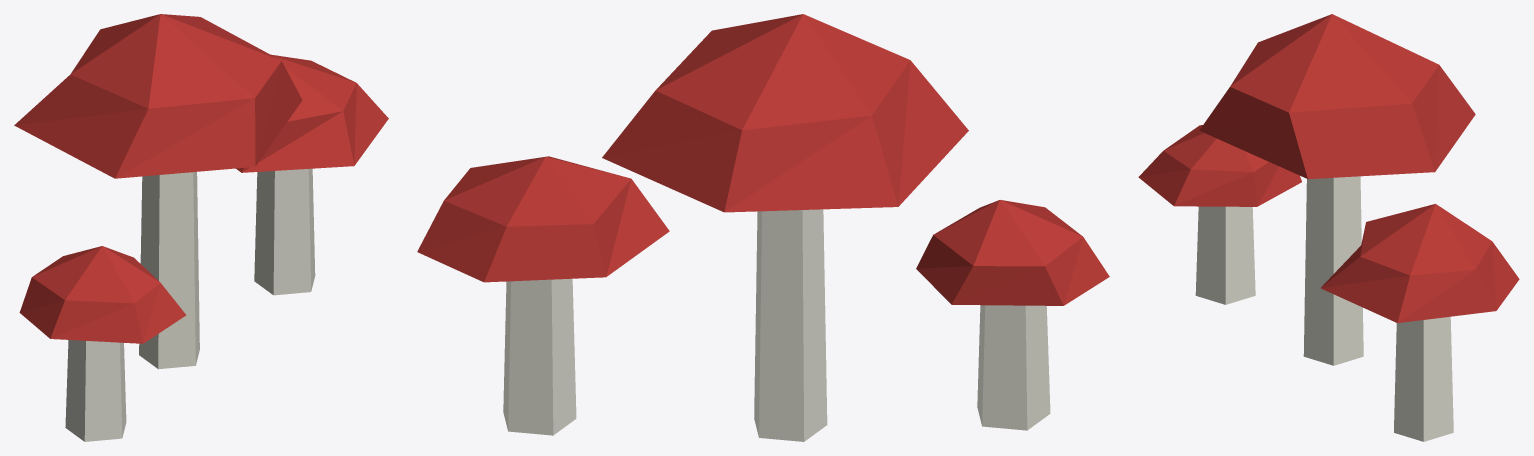
The model's file is devilstrand.obj.
3 renders of one model, left to right at view 1: azimuth 30°, elevation 25°; view 2: azimuth 150°, elevation 25°; view 3: azimuth 270°, elevation 25°, orthographic. The views are drawn at different scales.
Parts seen in each view (by area): view 1: devilstrand; view 2: devilstrand; view 3: devilstrand.
Part boxes in pixels (box(x1,y1,x2,y2)): devilstrand: box(14, 14, 388, 441); devilstrand: box(417, 14, 1109, 441); devilstrand: box(1138, 14, 1519, 441).
Bounding box in the file's own units: 0.5491 × 0.408 × 0.4234.
